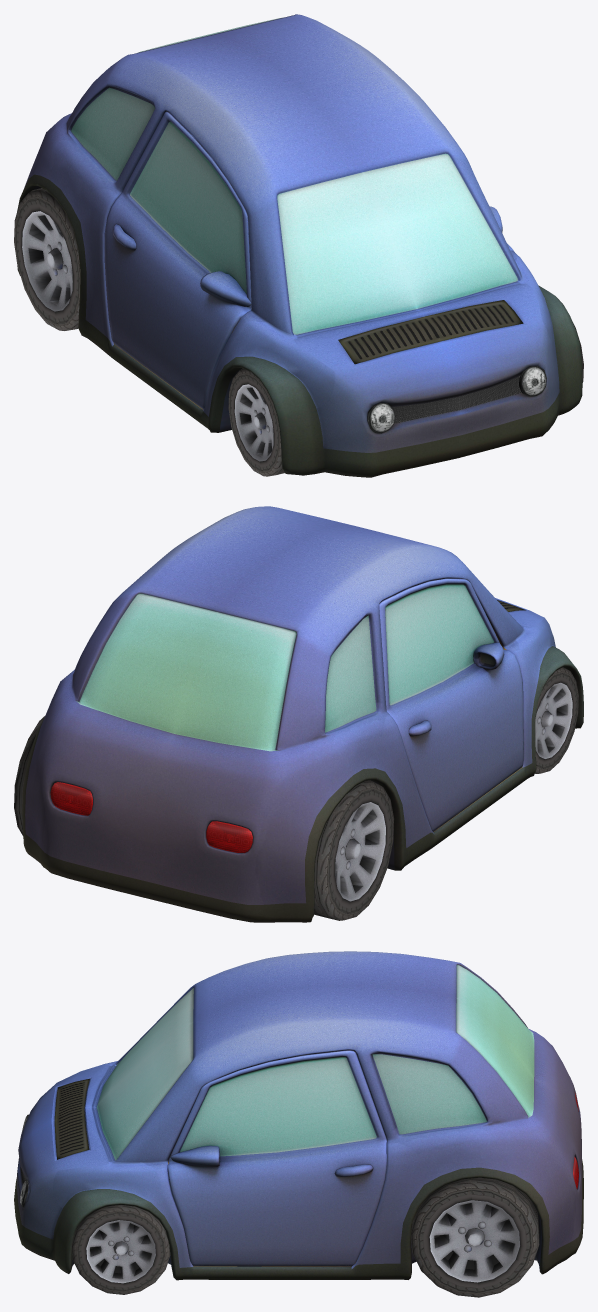
File: car.obj
The picture shows the model from 3 angles, top to bottom: view 1: azimuth 30°, elevation 25°; view 2: azimuth 150°, elevation 25°; view 3: azimuth 270°, elevation 25°; orthographic projection. The views are drawn at different scales.
Visible parts, largest first — view 1: car, Object001, wheel, wheel001; view 2: car, Object001, wheel, wheel001, wheel003; view 3: car, car_door, wheel003, wheel002.
Part boxes in pixels (x1,y1,x2,y2): car: (17, 14, 582, 477); Object001: (104, 111, 251, 409); wheel: (14, 188, 80, 330); wheel001: (228, 368, 284, 476); car: (22, 506, 583, 922); Object001: (379, 578, 523, 831); wheel: (314, 780, 394, 920); wheel001: (535, 667, 578, 773); wheel003: (14, 716, 44, 835); car: (14, 951, 583, 1280); car_door: (167, 1050, 386, 1266); wheel003: (411, 1177, 539, 1297); wheel002: (71, 1205, 170, 1294).
Bounding box in the file's own units: 184 × 150 × 316.
1 material, 1 textured.
